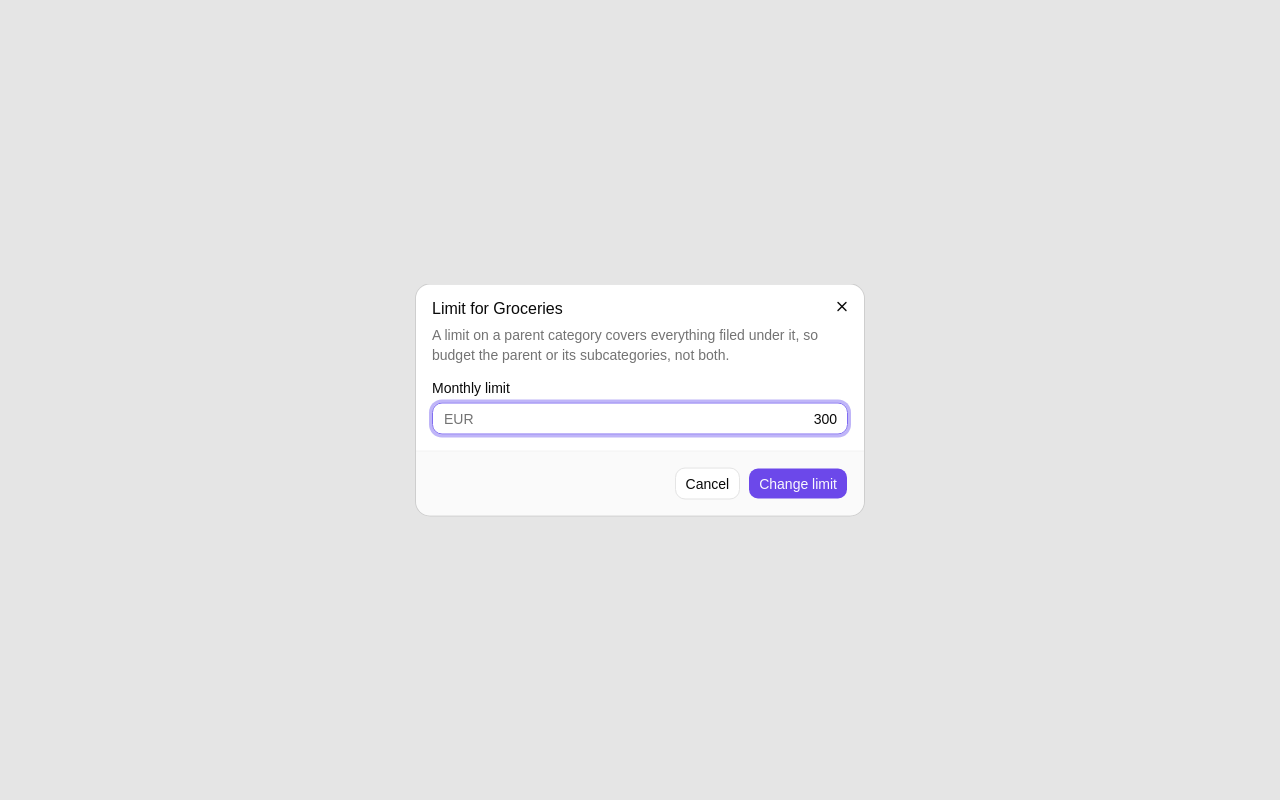
Scenario: reading the amount › clears the complaint once the amount is retyped
Step 1. Clear the field labelled "Monthly limit" → (640, 418), box top-left (432, 402), bottom-right (848, 434)
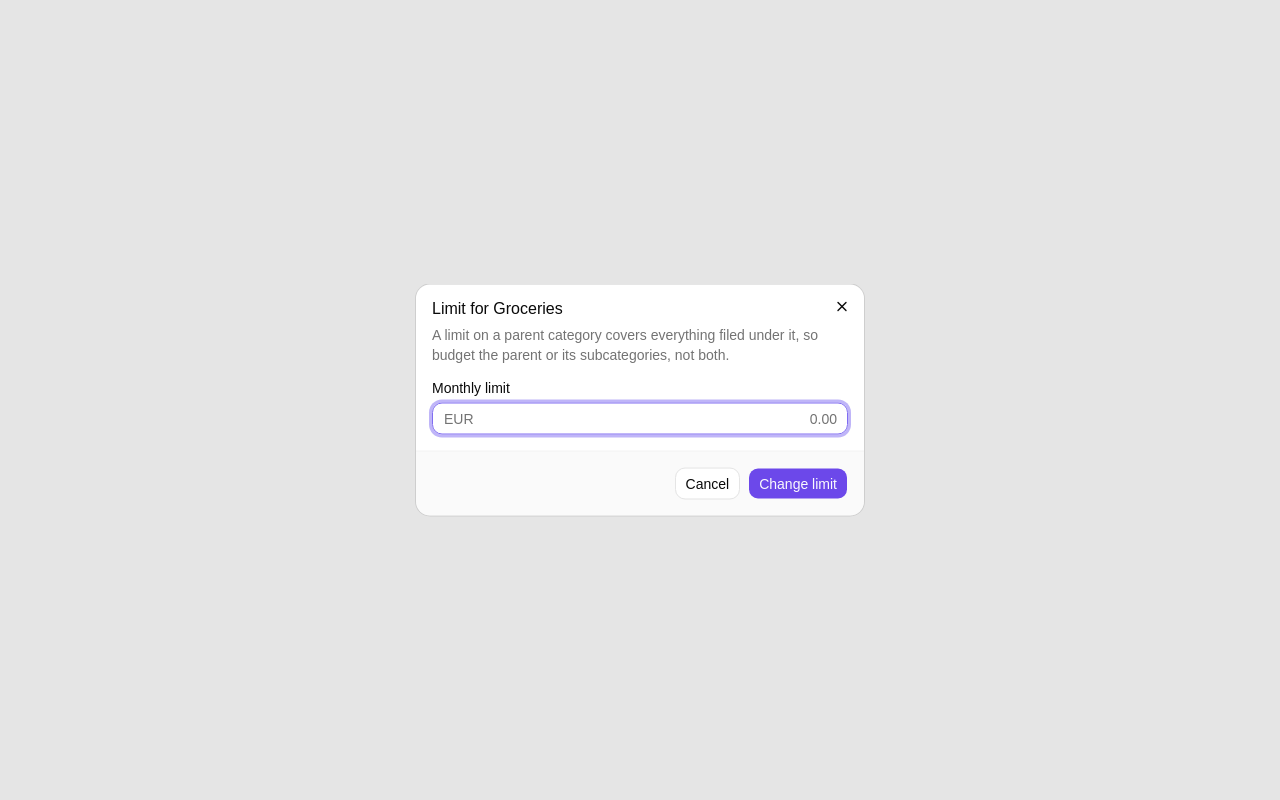
Step 2. Click the button "Change limit" → (798, 484), box top-left (748, 468), bottom-right (848, 500)
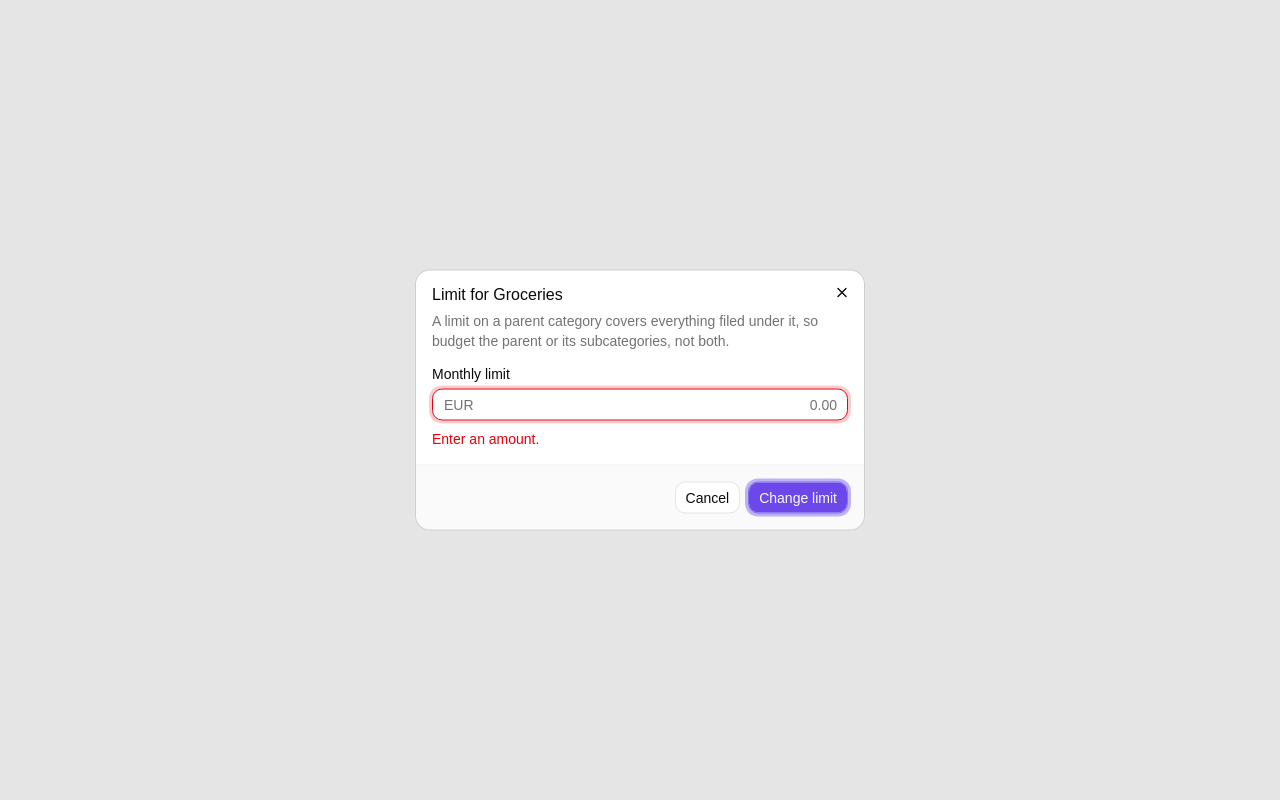
expect the text "Enter an amount." is shown: met, box top-left (432, 430), bottom-right (539, 446)
Step 3. Type "250" into the field labelled "Monthly limit" → (640, 404), box top-left (432, 388), bottom-right (848, 420)
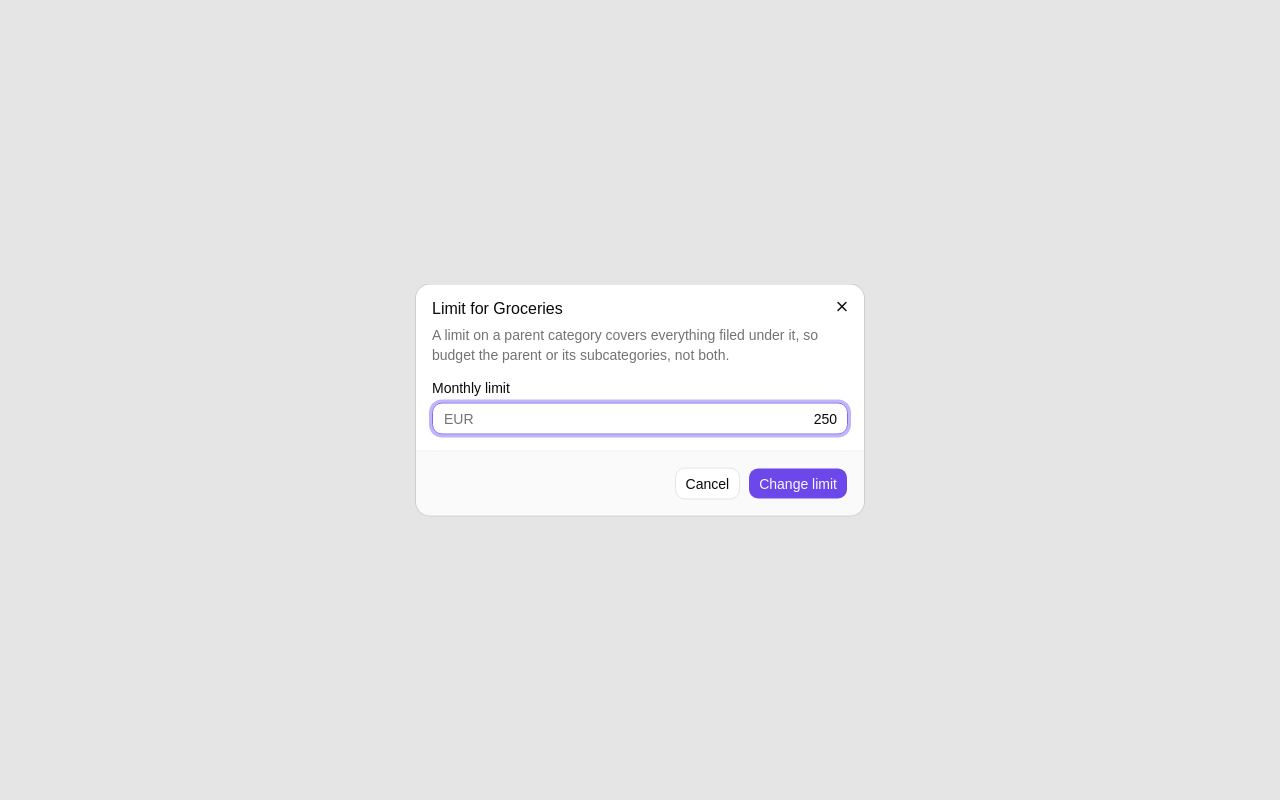
expect the text "Enter an amount." is gone: met
